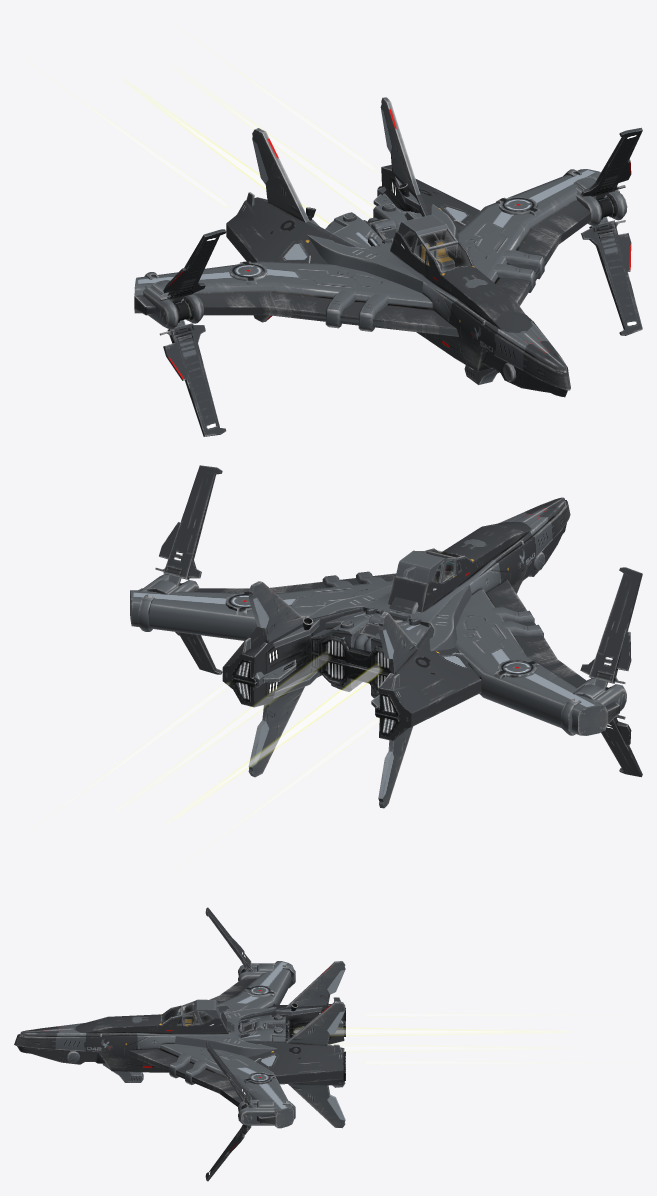
Rendered from raven_spaceship_-_star_conflict_v.2.glb.
The picture shows the model from 3 angles, top to bottom: view 1: azimuth 30°, elevation 25°; view 2: azimuth 150°, elevation 25°; view 3: azimuth 270°, elevation 25°; orthographic projection. The views are drawn at different scales.
Parts seen in each view (by area): view 1: Object_3, Object_6, Object_4; view 2: Object_3, Object_6; view 3: Object_3, Object_6, Object_4.
Part boxes in pixels (box(x1,y1,x2,y2)): Object_3: box(134, 97, 642, 436); Object_6: box(56, 46, 376, 228); Object_4: box(404, 229, 470, 272); Object_3: box(130, 465, 642, 808); Object_6: box(58, 654, 381, 845); Object_3: box(14, 907, 345, 1181); Object_6: box(293, 1013, 569, 1063); Object_4: box(163, 1003, 212, 1025).
Size of the model in its own units: 1699 by 703 by 2959.
Materials: 4 (4 with a texture image).
